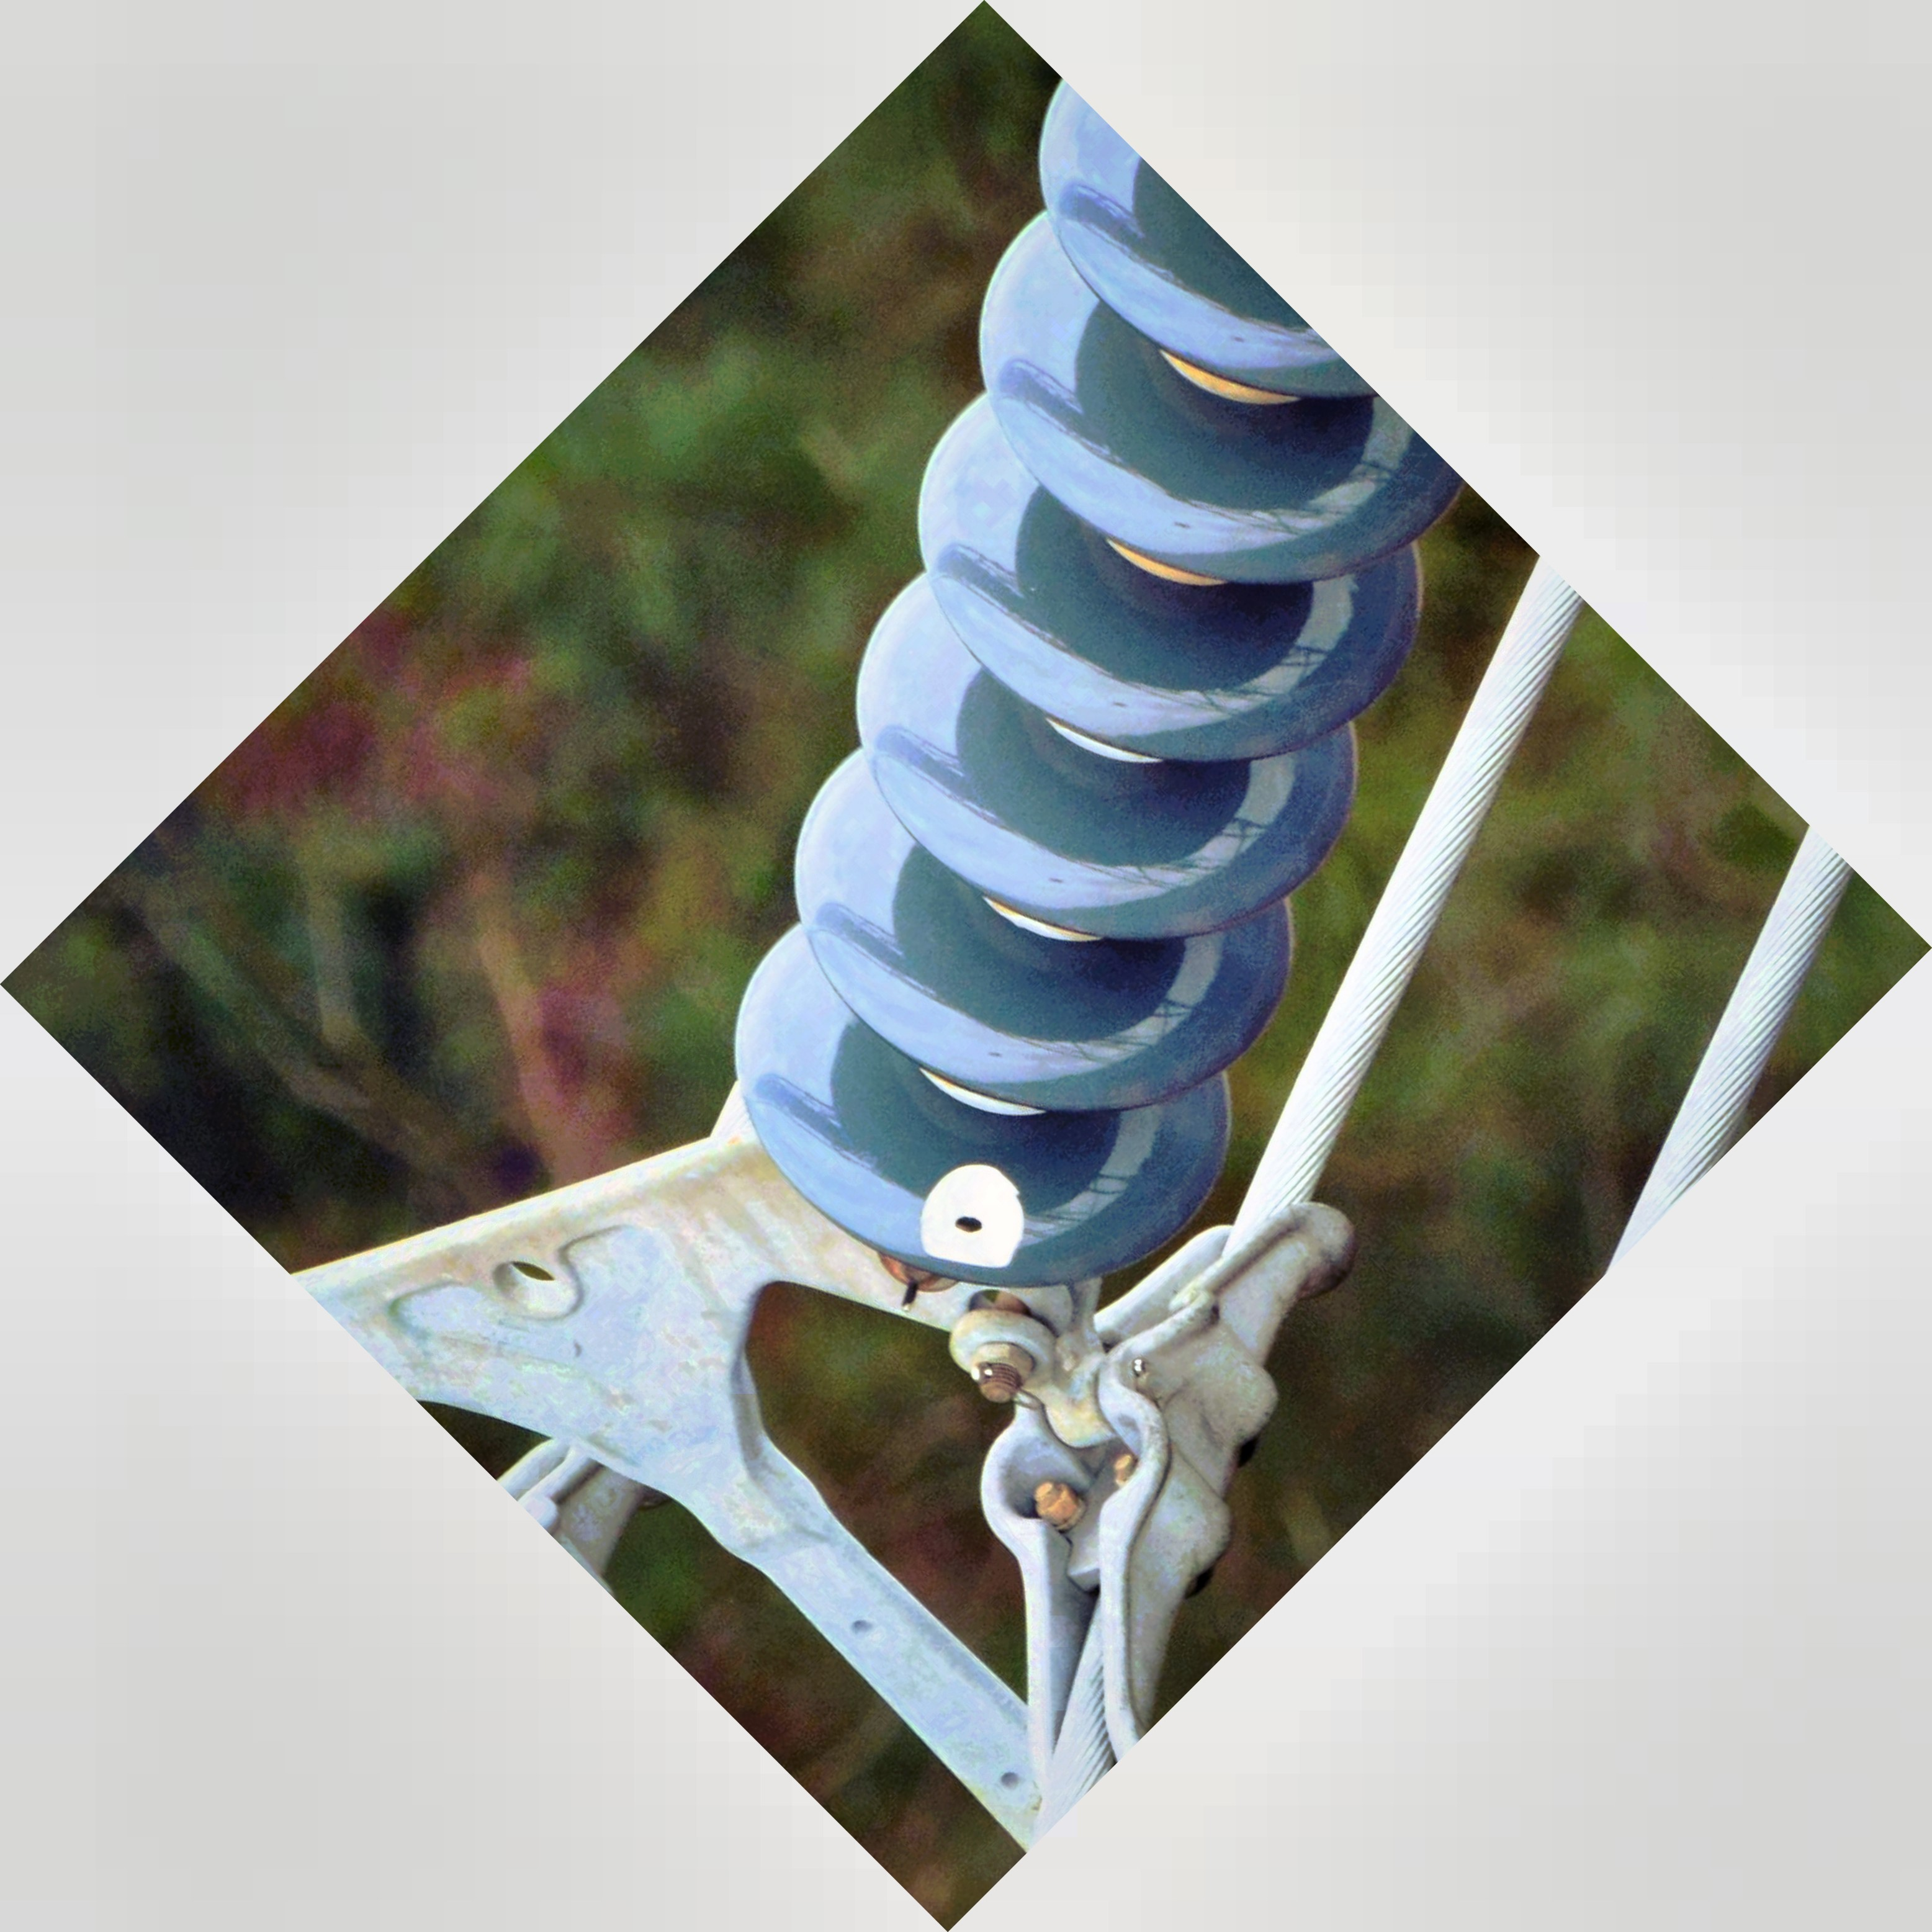insulator breakage: (722, 943, 1253, 1293)
